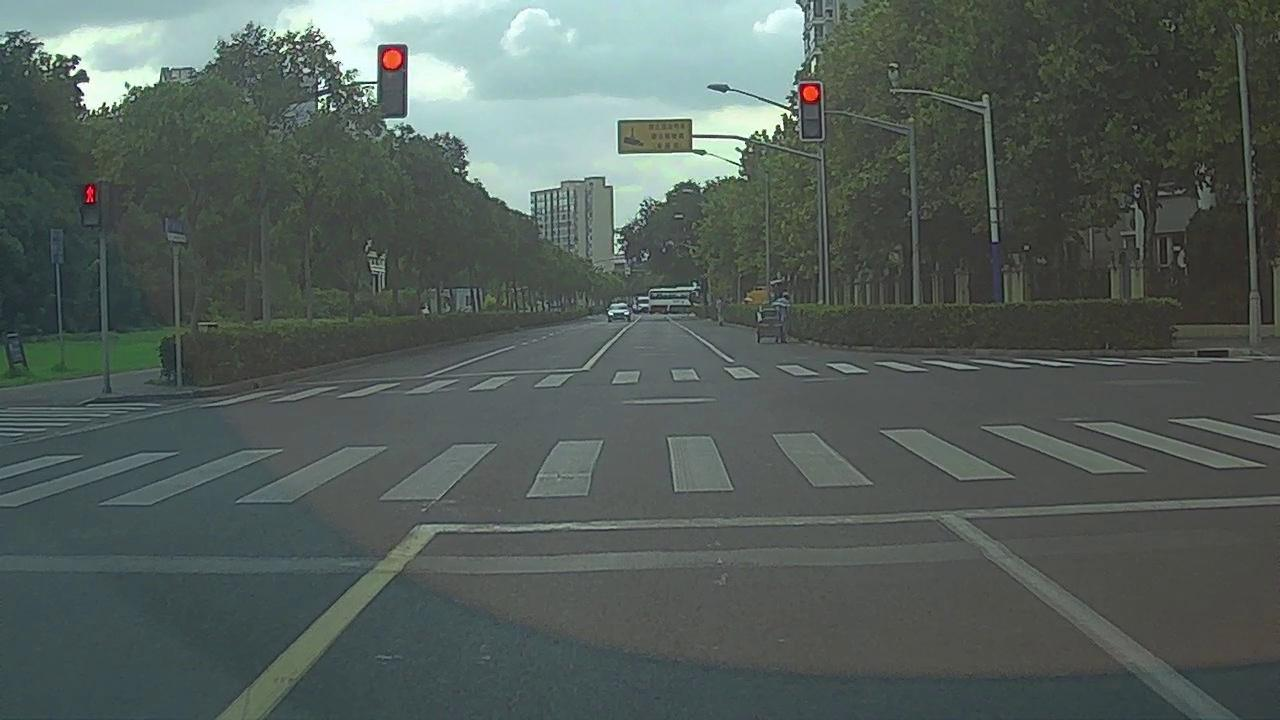traffic_light: (380, 44, 408, 117), (798, 83, 823, 139)
